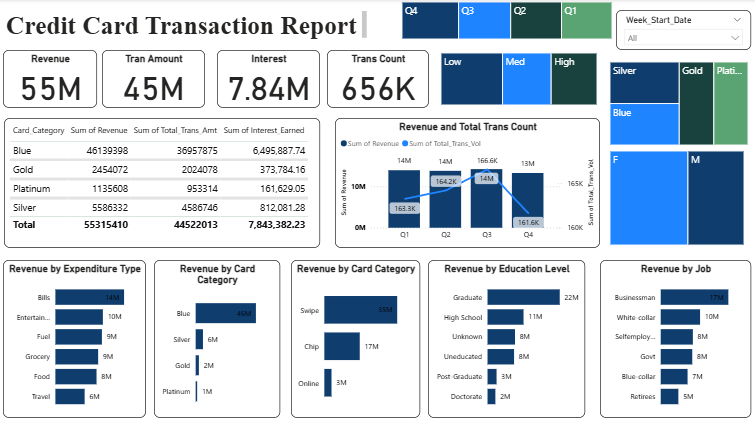

This screenshot's page, from the dashboard's own definition file:
{"tool":"powerbi","page":{"name":"Transaction Dashboard","canvas":[1280,720],"ordinal":0},"visuals":[{"type":"textbox","box":[10.1,218.4,240.2,62.2],"z":0},{"type":"textbox","box":[10.1,15.1,616.5,57.1],"z":1000},{"type":"lineStackedColumnComboChart","title":"Revenue and Total Trans Count","fields":{"Category":["credit_card.Qtr"],"Y":["Sum(credit_card.Revenue)"],"Y2":["Sum(credit_card.Total_Trans_Vol)"]},"box":[567.8,199.9,445.1,218.4],"z":2000},{"type":"barChart","title":"Revenue by Expenditure Type","fields":{"Y":["Sum(credit_card.Revenue)"],"Category":["credit_card.Exp Type"]},"box":[10.1,438.4,240.2,265.4],"z":3000},{"type":"barChart","title":"Revenue by Education Level","fields":{"Y":["Sum(credit_card.Revenue)"],"Category":["customer.Education_Level"]},"box":[724,438.4,263.7,265.4],"z":4000},{"type":"barChart","title":"Revenue by Job","fields":{"Y":["Sum(credit_card.Revenue)"],"Category":["customer.Customer_Job"]},"box":[1012.9,438.4,253.6,265.4],"z":5000},{"type":"barChart","title":"Revenue by Card Category","fields":{"Y":["Sum(credit_card.Revenue)"],"Category":["credit_card.Card_Category"]},"box":[263.7,438.4,211.7,265.4],"z":6000},{"type":"barChart","title":"Revenue by Card Category","fields":{"Y":["Sum(credit_card.Revenue)"],"Category":["credit_card.Use Chip"]},"box":[493.9,438.4,216.7,265.4],"z":7000},{"type":"tableEx","fields":{"Values":["credit_card.Card_Category","Sum(credit_card.Revenue)","Sum(credit_card.Total_Trans_Amt)","Sum(credit_card.Interest_Earned)"]},"box":[11.8,199.9,530.8,218.4],"z":8000},{"type":"card","title":"Revenue","fields":{"Values":["Sum(credit_card.Revenue)"]},"box":[10.1,85.7,157.9,97.4],"z":9000},{"type":"card","title":"Tran Amount","fields":{"Values":["Sum(credit_card.Total_Trans_Amt)"]},"box":[176.4,85.7,173,97.4],"z":10000},{"type":"card","title":"Interest","fields":{"Values":["Sum(credit_card.Interest_Earned)"]},"box":[369.6,85.7,173,97.4],"z":11000},{"type":"card","title":"Trans Count","fields":{"Values":["Sum(credit_card.Total_Trans_Vol)"]},"box":[554.3,85.7,171.3,97.4],"z":12000},{"type":"slicer","fields":{"Values":["credit_card.Week_Start_Date"]},"box":[1039.8,18.5,226.8,67.2],"z":13000},{"type":"treemap","fields":{"Group":["credit_card.Qtr"],"Values":["Avg(credit_card.Client_Num)"]},"box":[675.3,0,362.8,72.2],"z":14000},{"type":"treemap","fields":{"Group":["customer.Gender"],"Values":["CountNonNull(credit_card.Client_Num)"]},"box":[1024.7,250.3,235.2,168],"z":15000},{"type":"treemap","fields":{"Group":["credit_card.Card_Category"],"Values":["Avg(credit_card.Client_Num)"]},"box":[1024.7,100.8,241.9,149.5],"z":16000},{"type":"treemap","fields":{"Group":["customer.IncomeGroup"],"Values":["CountNonNull(credit_card.Client_Num)"]},"box":[740.8,85.7,272.1,97.4],"z":17000}]}

Visuals, with their boxes in screenshot pixels (x1, y1, x2, y2), scaled from the page's 1280x720 canvas onto the 755x421 screenshot:
textbox: bbox=(6, 128, 148, 164)
textbox: bbox=(6, 9, 370, 42)
"Revenue and Total Trans Count" lineStackedColumnComboChart: bbox=(335, 117, 597, 245)
"Revenue by Expenditure Type" barChart: bbox=(6, 256, 148, 412)
"Revenue by Education Level" barChart: bbox=(427, 256, 583, 412)
"Revenue by Job" barChart: bbox=(597, 256, 747, 412)
"Revenue by Card Category" barChart: bbox=(156, 256, 280, 412)
"Revenue by Card Category" barChart: bbox=(291, 256, 419, 412)
tableEx - credit_card.Card_Category x Sum(credit_card.Revenue): bbox=(7, 117, 320, 245)
"Revenue" card: bbox=(6, 50, 99, 107)
"Tran Amount" card: bbox=(104, 50, 206, 107)
"Interest" card: bbox=(218, 50, 320, 107)
"Trans Count" card: bbox=(327, 50, 428, 107)
slicer - credit_card.Week_Start_Date: bbox=(613, 11, 747, 50)
treemap - credit_card.Qtr x Avg(credit_card.Client_Num): bbox=(398, 0, 612, 42)
treemap - customer.Gender x CountNonNull(credit_card.Client_Num): bbox=(604, 146, 743, 245)
treemap - credit_card.Card_Category x Avg(credit_card.Client_Num): bbox=(604, 59, 747, 146)
treemap - customer.IncomeGroup x CountNonNull(credit_card.Client_Num): bbox=(437, 50, 597, 107)
